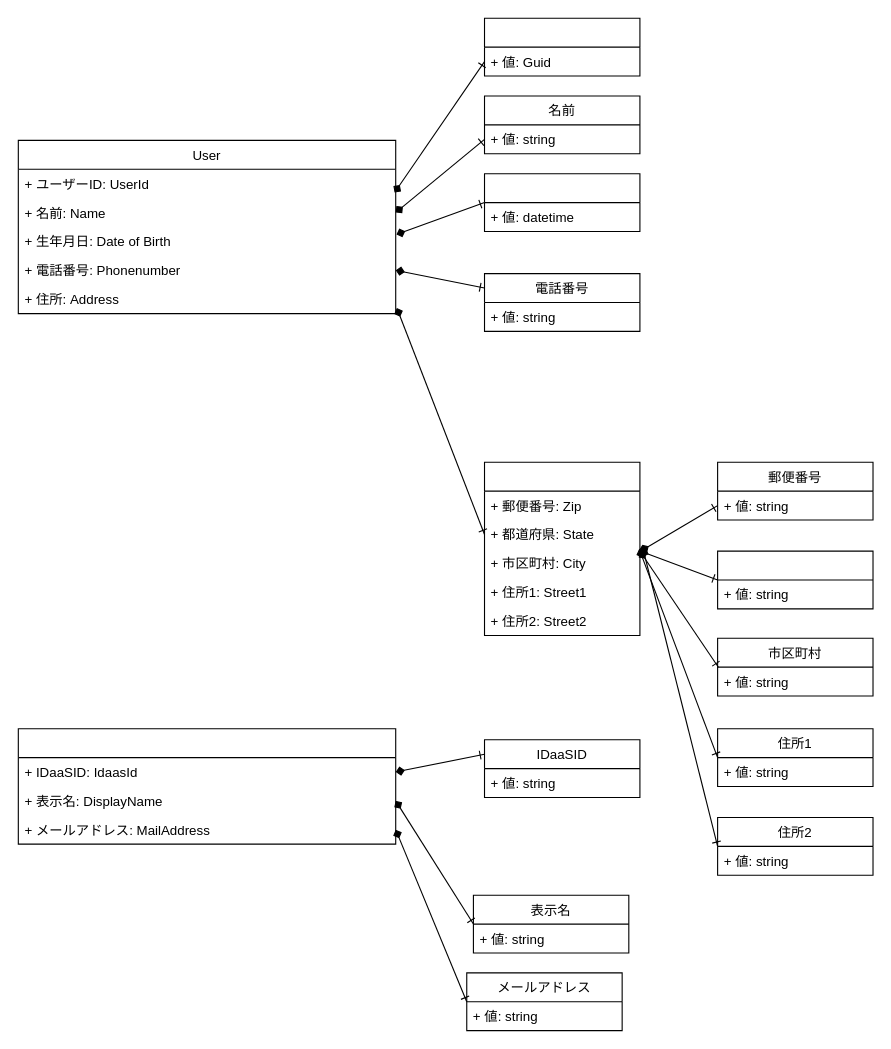
The diagram is 891 pixels wide and 1049 high, and some of its shapes have lost their labels. Here are the shapes that lost their labels. From the top down, the box of each, then its label:
(483, 17, 640, 76): ユーザーID
(483, 173, 640, 231): 生年月日
(483, 461, 640, 635): 住所
(717, 550, 873, 609): 都道府県
(17, 728, 396, 844): IdaasInfo
